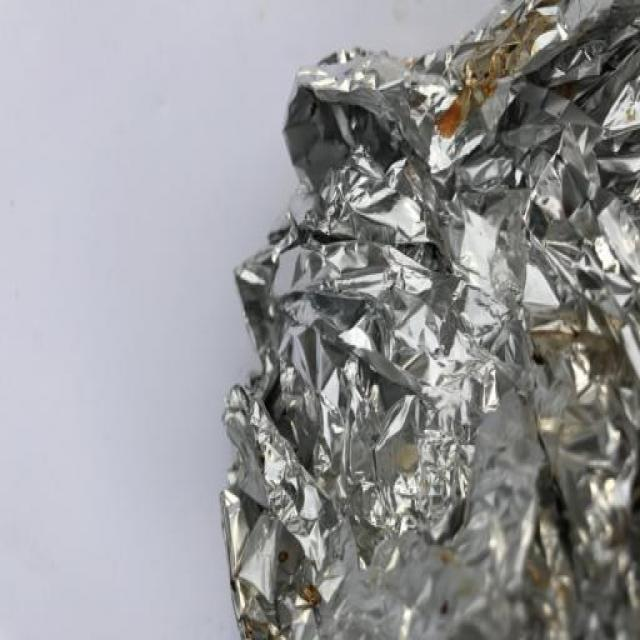others: (187, 1, 640, 640)
